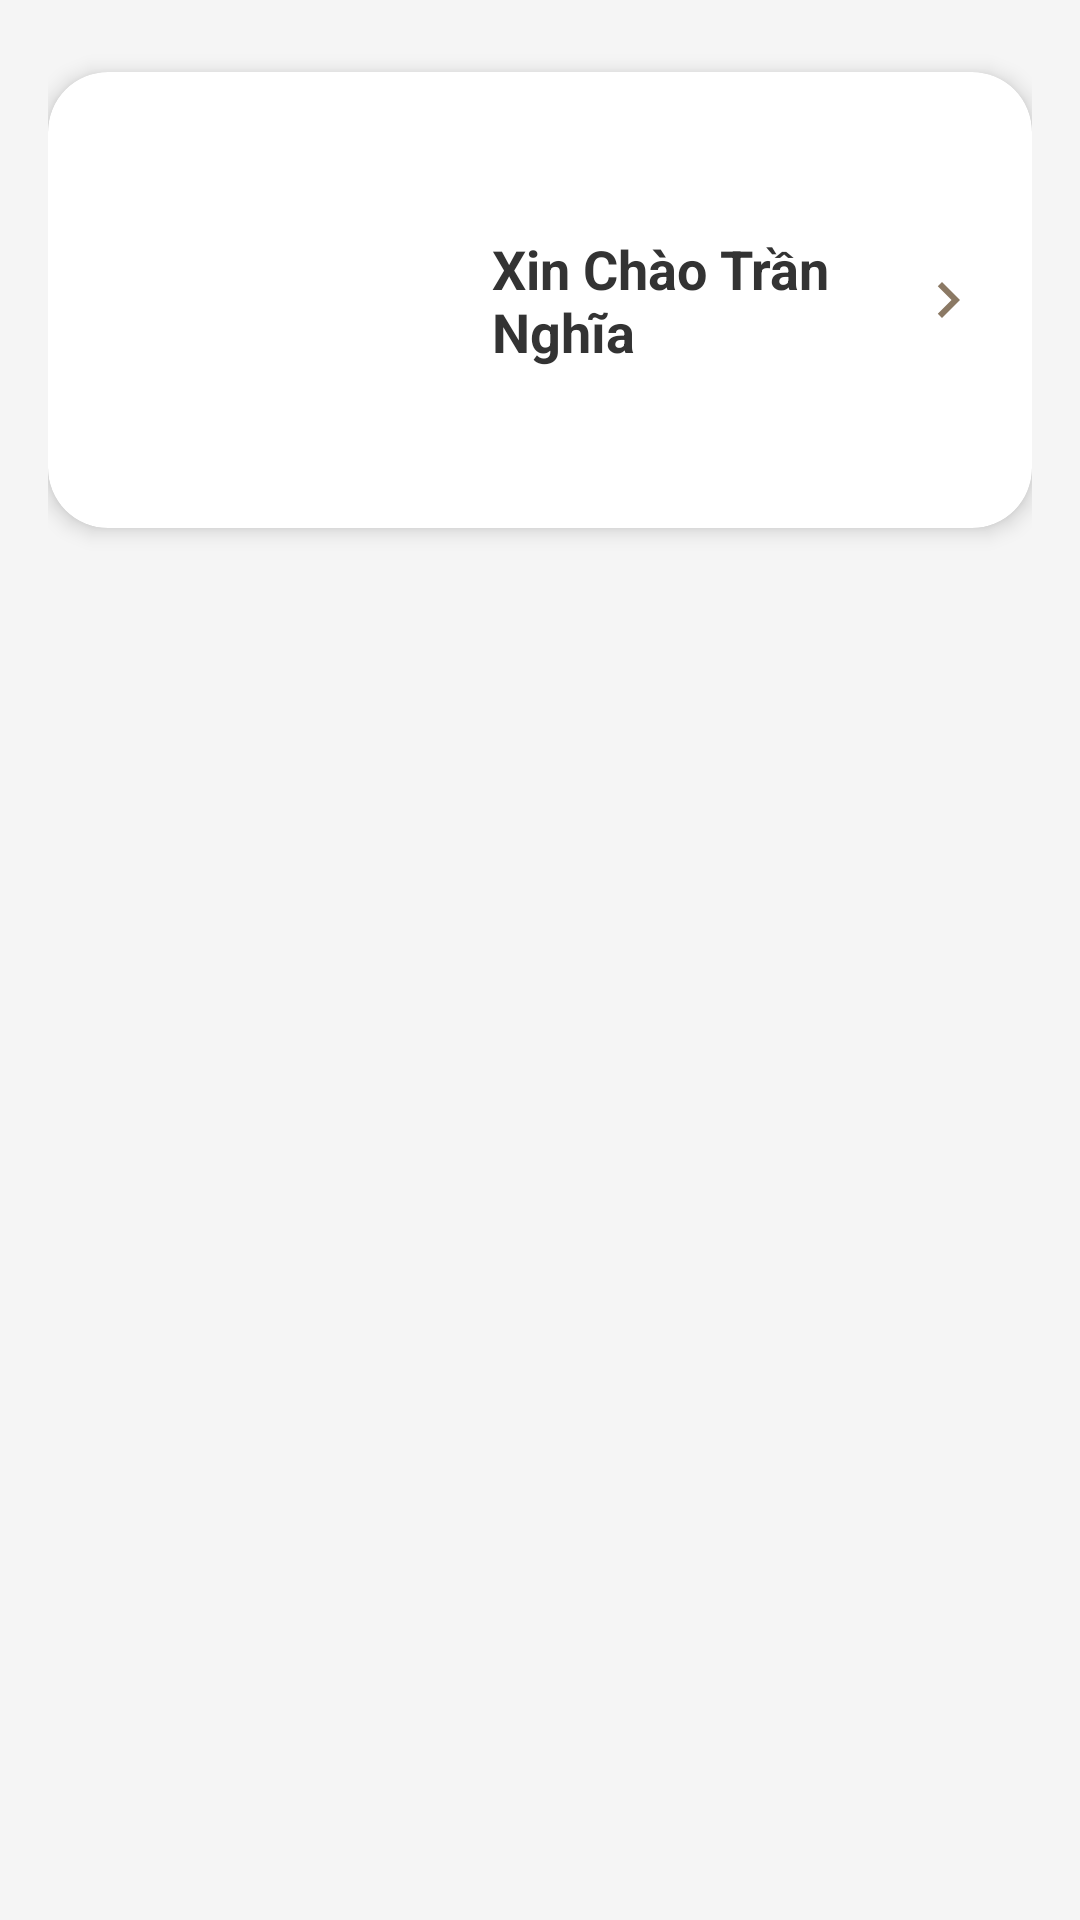

Icon bounding boxes for this 1080 × 1920 phone screenshot, format box(x1, y1, x2, y2):
arrow right: box(938, 282, 960, 318)
